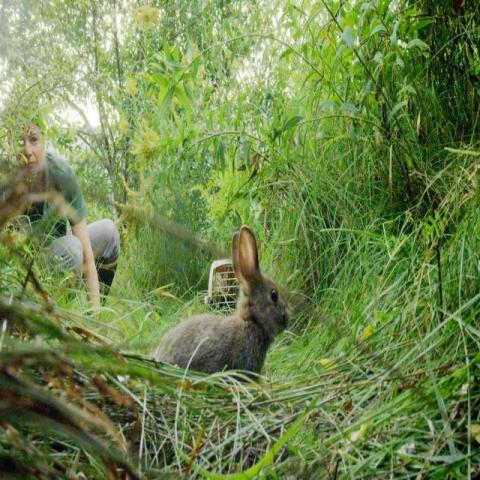small_animal: (149, 224, 293, 386)
